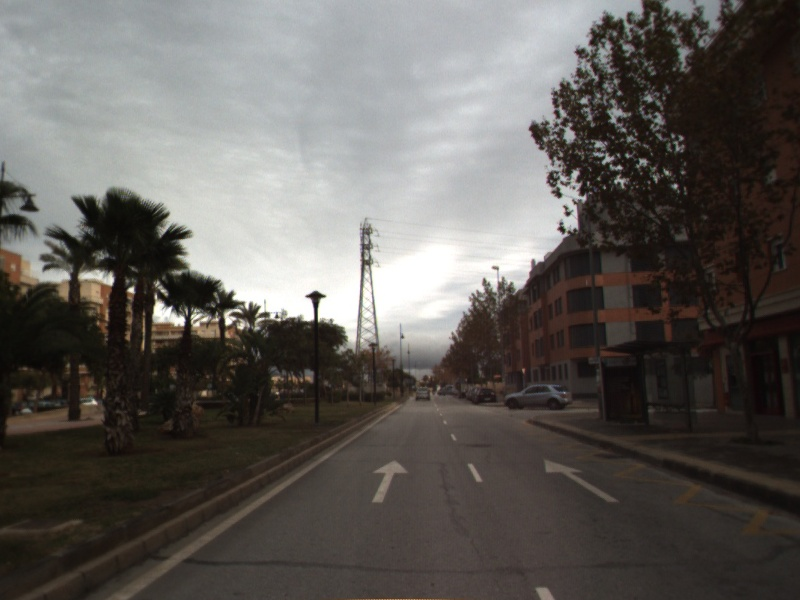STRAIGHT: (542, 457, 621, 504), (370, 458, 410, 505)
